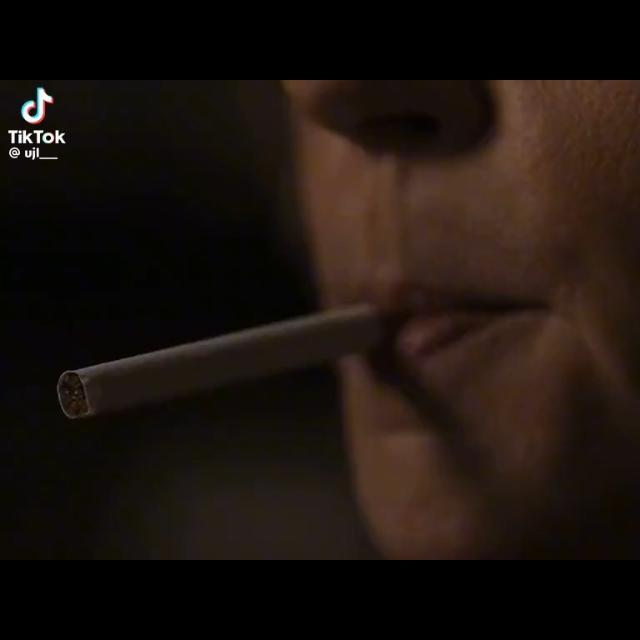rokok: (36, 311, 444, 429)
